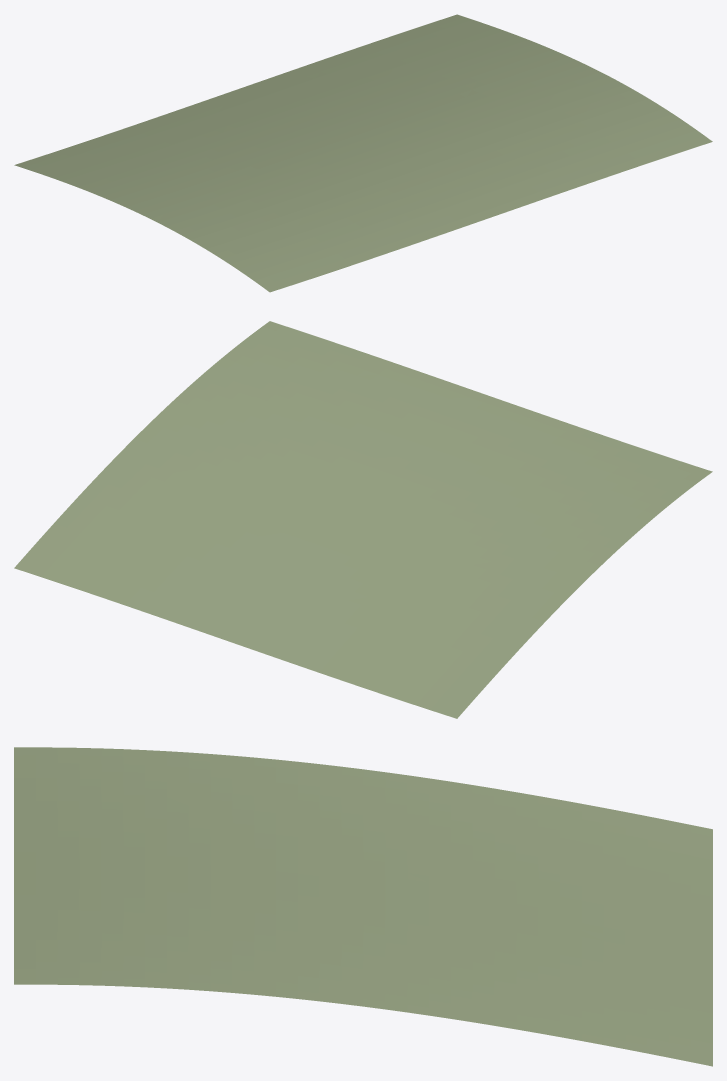
The model's file is valley-5-0.glb.
3 renders of one model, top to bottom at view 1: azimuth 30°, elevation 25°; view 2: azimuth 150°, elevation 25°; view 3: azimuth 270°, elevation 25°, orthographic. The views are drawn at different scales.
Visible parts, largest first — view 1: valley-5-0; view 2: valley-5-0; view 3: valley-5-0.
Part boxes in pixels (<box>): valley-5-0: <box>14,14,712,292</box>; valley-5-0: <box>14,321,712,718</box>; valley-5-0: <box>14,747,712,1066</box>.
Bounding box in the file's own units: 256 × 56.59 × 256.
